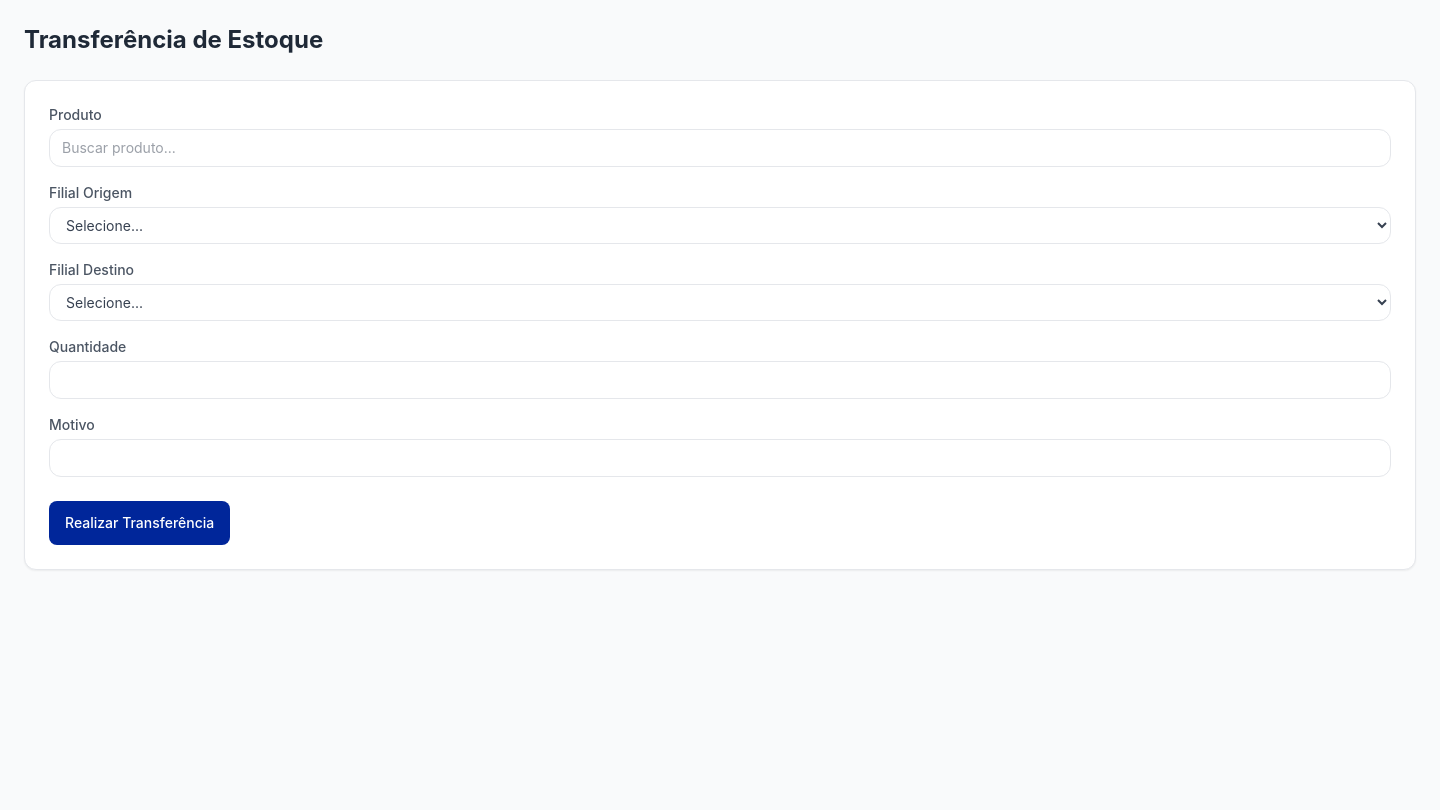
Test: TransferForm › shows validation errors for empty fields
Click the button "Realizar Transferência" at (140, 523), box top-left (49, 501), bottom-right (230, 545)
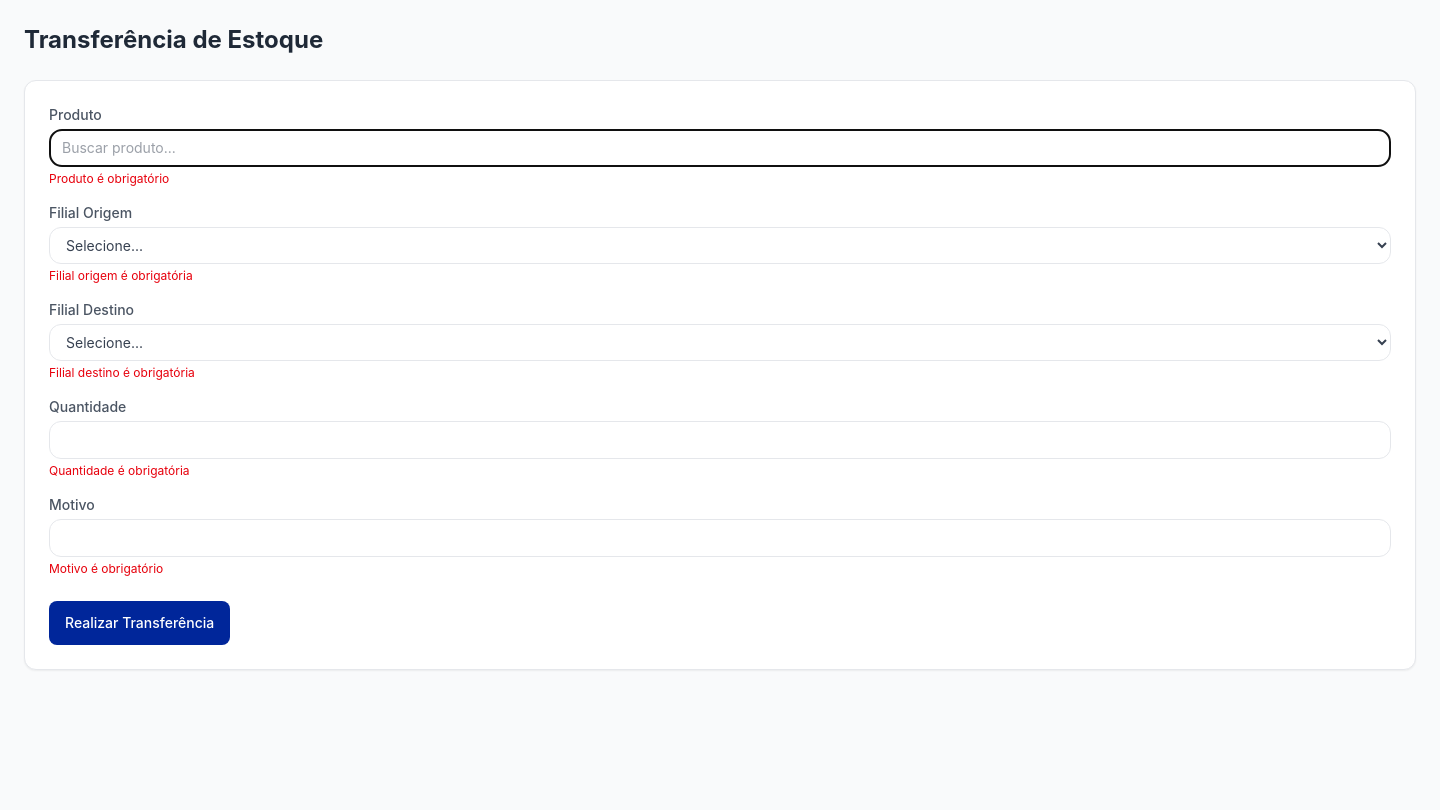
Check: the text "Produto é obrigatório" is shown, box top-left (49, 171), bottom-right (169, 186)
